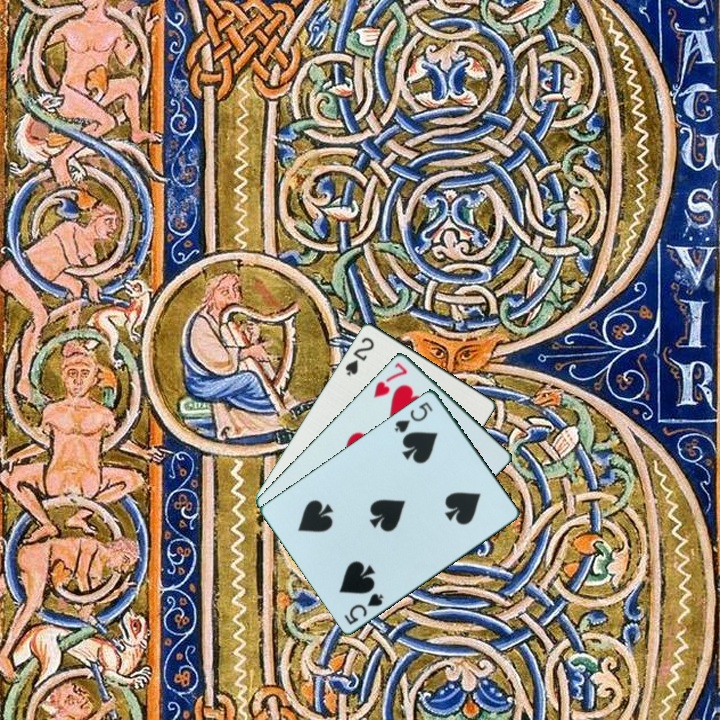2s: (341, 333, 377, 378)
5s: (340, 589, 387, 627), (391, 398, 436, 435)
7h: (370, 358, 410, 400)
